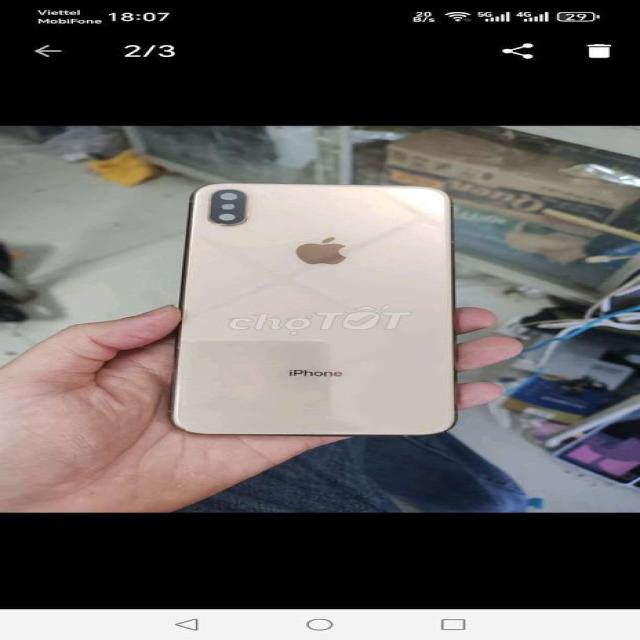gen_x_xs: (162, 177, 498, 449)
